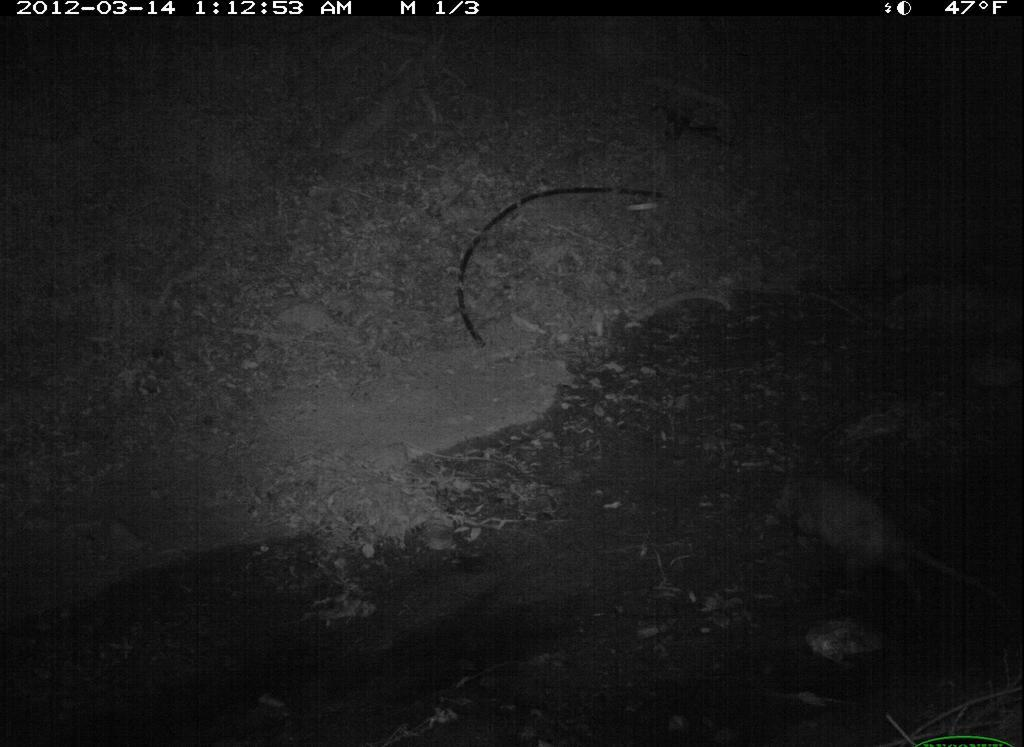opossum: (757, 470, 996, 609)
